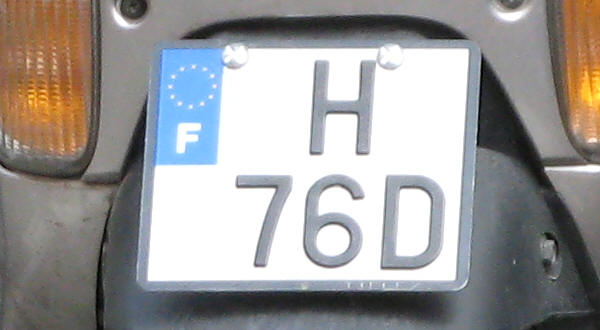license_plate: (136, 41, 480, 293)
